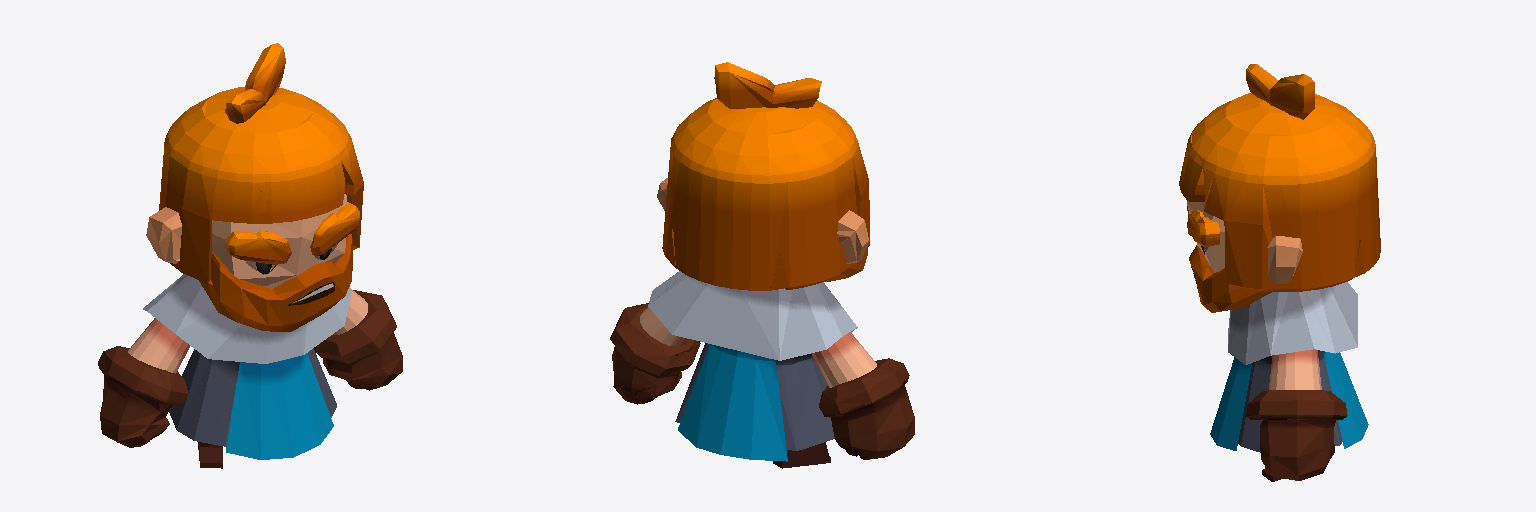
3 views of the same model, side by side, from view 1: azimuth 30°, elevation 25°; view 2: azimuth 150°, elevation 25°; view 3: azimuth 270°, elevation 25° (orthographic).
Parts seen in each view (by area): view 1: Cylinder.007, Cube.001, Cylinder.004, Cylinder, Cube.004, Cylinder.001, Cube, Cube.006, Cylinder.003, Cube.008, Cube.003, Cube.005 (+1 smaller); view 2: Cylinder.007, Cube.001, Cylinder, Cylinder.004, Cylinder.001, Cylinder.003, Cube.003, Cube.008, Cube.005, Cube.007; view 3: Cylinder.007, Cylinder, Cube.001, Cylinder.004, Cube.004, Cylinder.001, Cylinder.003, Cube.003, Cube.008, Cube.006, Cube, Cube.005.
Boxes of the visible parts, <box> form: Cylinder.007: <box>159,87,363,284</box>; Cube.001: <box>98,290,402,447</box>; Cylinder.004: <box>226,353,333,459</box>; Cylinder: <box>143,274,351,363</box>; Cube.004: <box>199,234,352,331</box>; Cylinder.001: <box>169,348,336,446</box>; Cube: <box>212,194,347,288</box>; Cube.006: <box>225,202,359,264</box>; Cylinder.003: <box>128,287,367,373</box>; Cube.008: <box>146,207,181,263</box>; Cube.003: <box>245,43,285,105</box>; Cube.005: <box>225,89,266,123</box>; Cylinder.007: <box>662,98,869,290</box>; Cube.001: <box>610,303,914,459</box>; Cylinder: <box>648,271,857,360</box>; Cylinder.004: <box>678,344,787,461</box>; Cylinder.001: <box>675,343,834,450</box>; Cylinder.003: <box>640,307,876,387</box>; Cube.003: <box>714,62,774,108</box>; Cube.008: <box>657,178,868,263</box>; Cube.005: <box>771,78,821,108</box>; Cube.007: <box>773,442,830,468</box>; Cylinder.007: <box>1179,93,1380,291</box>; Cylinder: <box>1228,282,1357,364</box>; Cube.001: <box>1246,390,1347,480</box>; Cylinder.004: <box>1210,351,1368,450</box>; Cube.004: <box>1189,245,1271,312</box>; Cylinder.001: <box>1238,350,1342,452</box>; Cylinder.003: <box>1269,349,1321,389</box>; Cube.003: <box>1269,74,1314,119</box>; Cube.008: <box>1267,236,1302,283</box>; Cube.006: <box>1187,206,1219,246</box>; Cube: <box>1187,169,1224,272</box>; Cube.005: <box>1246,64,1278,103</box>.
Bounding box in the file's own units: 0.593 × 0.7519 × 0.3518.
Materials: 14 (14 with a texture image).